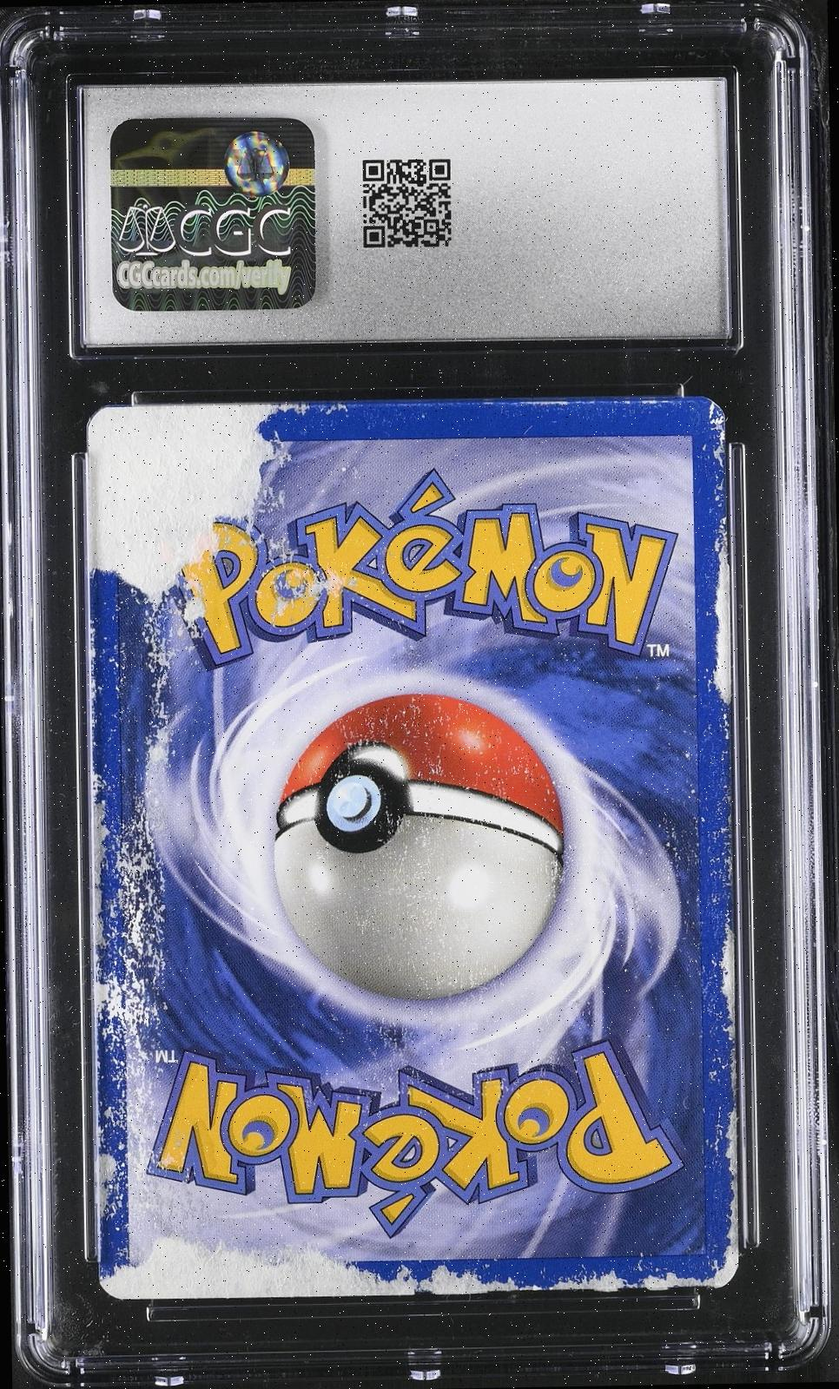card-2UtV: (86, 396, 739, 1301)
